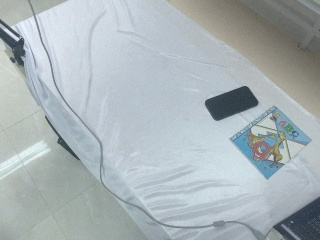book: (229, 105, 312, 181)
phone: (204, 85, 259, 121)
